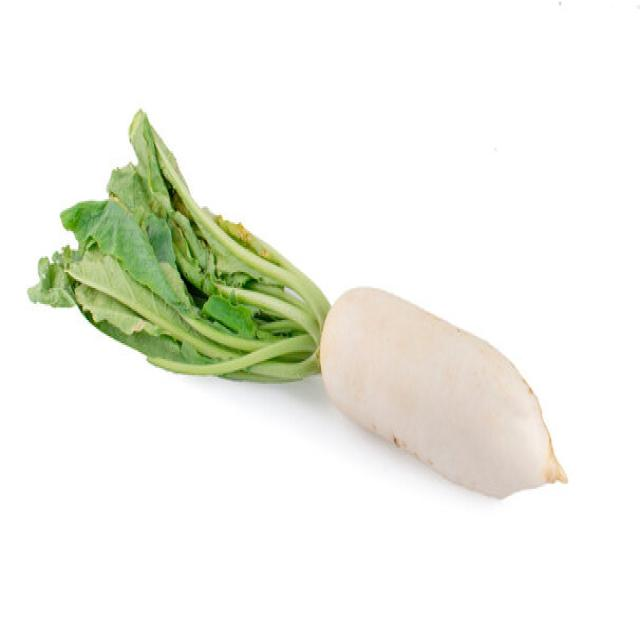Potato: (28, 107, 567, 500)
Radish: (27, 107, 330, 384), (319, 282, 567, 500)
